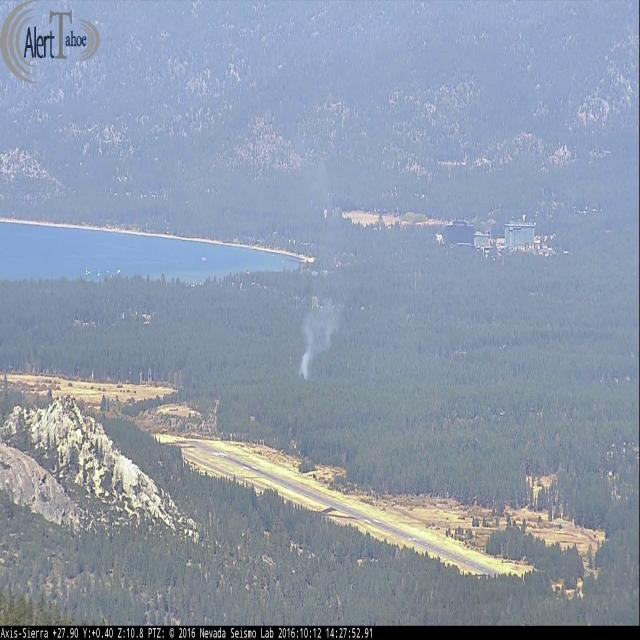smoke: (294, 184, 349, 380)
